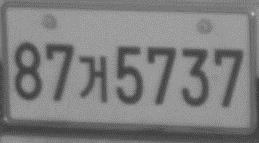3: (180, 47, 209, 107)
5: (115, 44, 144, 105)
7: (147, 45, 177, 106), (213, 48, 244, 107), (45, 42, 74, 101)
8: (14, 42, 42, 100)
거: (78, 54, 108, 103)
